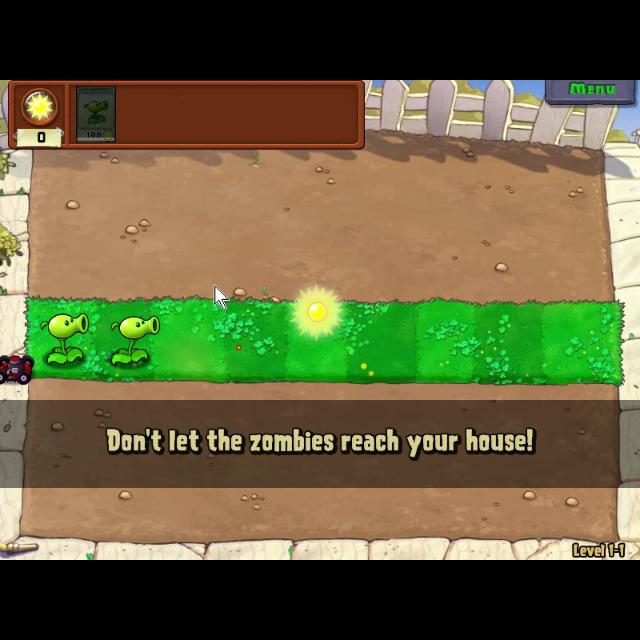Garden: (22, 292, 628, 388)
Menu Button: (542, 80, 636, 106)
Mower: (0, 348, 34, 386)
Peashooter: (75, 82, 117, 144)
Peashooter Seed: (104, 312, 164, 372), (40, 308, 90, 366)
Sun: (284, 286, 350, 340)
